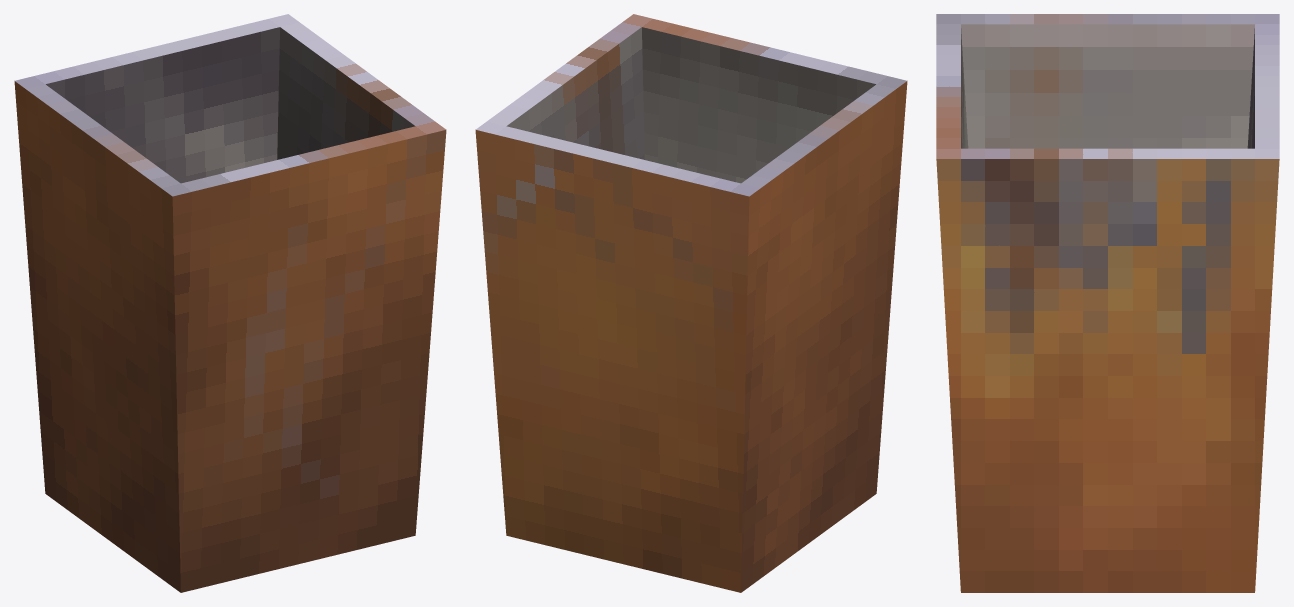
The model's file is trash_can.fbx.
The picture shows the model from 3 angles, left to right: view 1: azimuth 30°, elevation 25°; view 2: azimuth 150°, elevation 25°; view 3: azimuth 270°, elevation 25°; orthographic projection. The views are drawn at different scales.
Visible parts, largest first — view 1: trash_can; view 2: trash_can; view 3: trash_can.
Part boxes in pixels (left/top/right/bottom): trash_can: left=14, top=14, right=446, bottom=592; trash_can: left=475, top=14, right=907, bottom=592; trash_can: left=936, top=14, right=1279, bottom=592.
Size of the model in its own units: 70 by 100 by 70.
